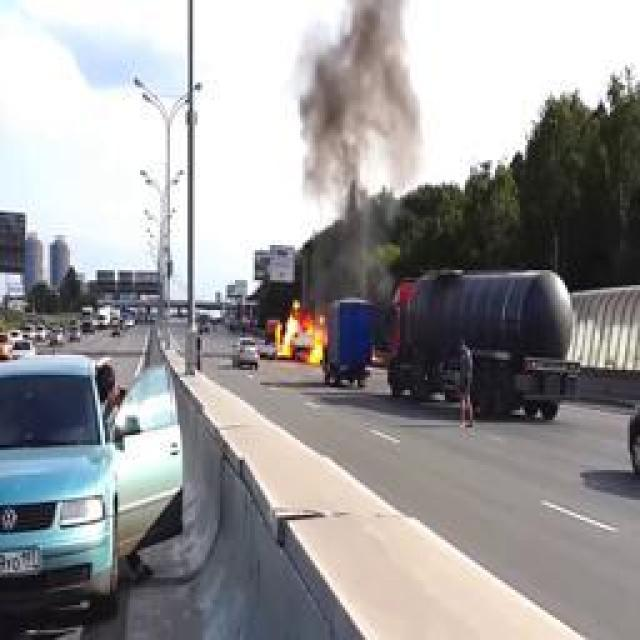Fire: (272, 302, 326, 362)
